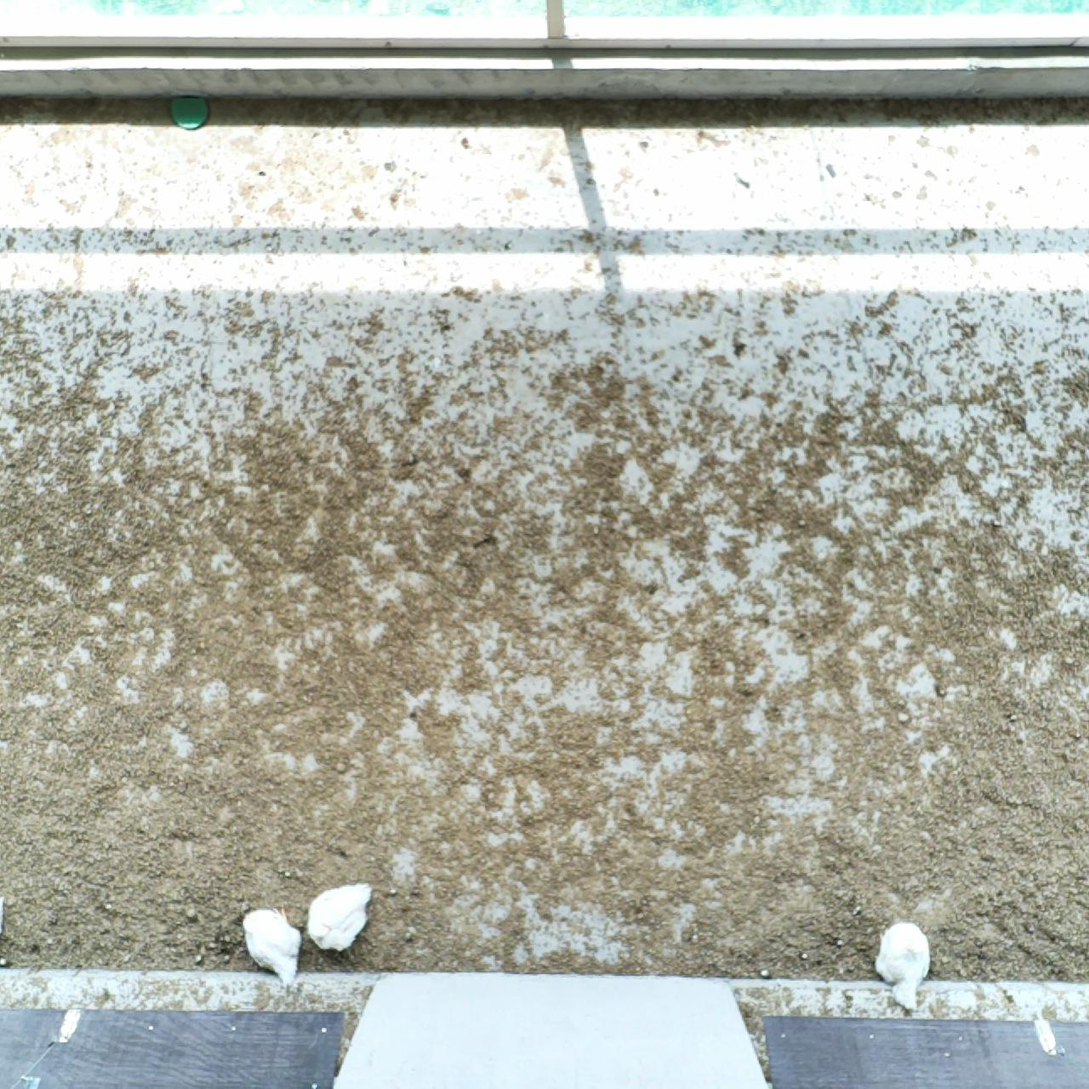chicken: (872, 917, 936, 1017), (304, 879, 379, 961), (237, 902, 305, 989)
